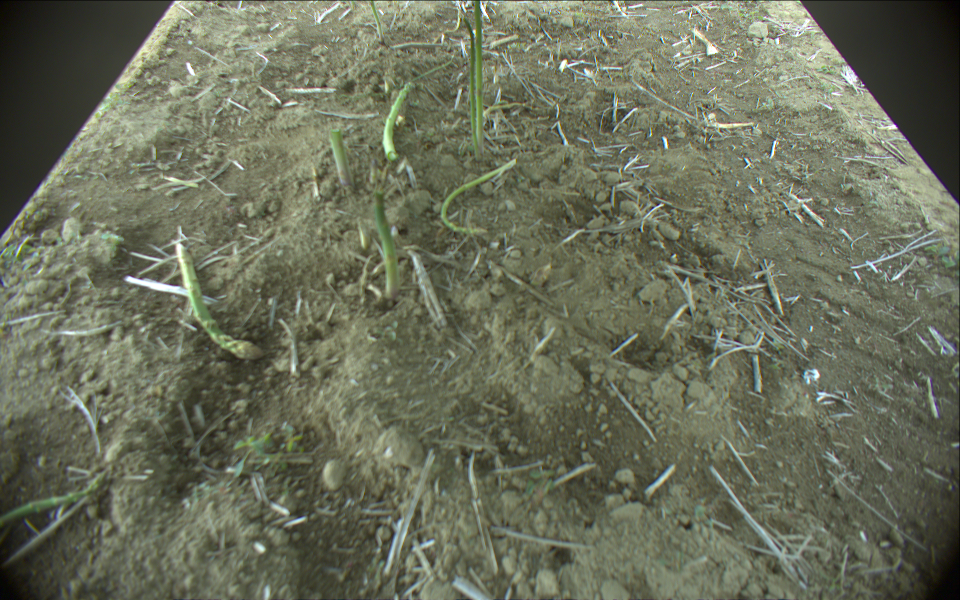aspa: (170, 235, 266, 363), (1, 466, 111, 528), (437, 159, 517, 234), (378, 162, 400, 301), (381, 80, 417, 159), (460, 14, 479, 147), (473, 1, 485, 147), (330, 126, 353, 192), (366, 1, 385, 45)
